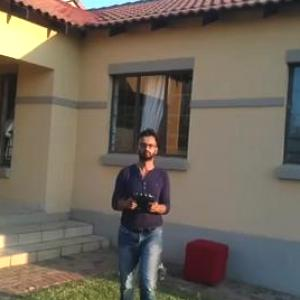follow: (111, 123, 181, 299)
